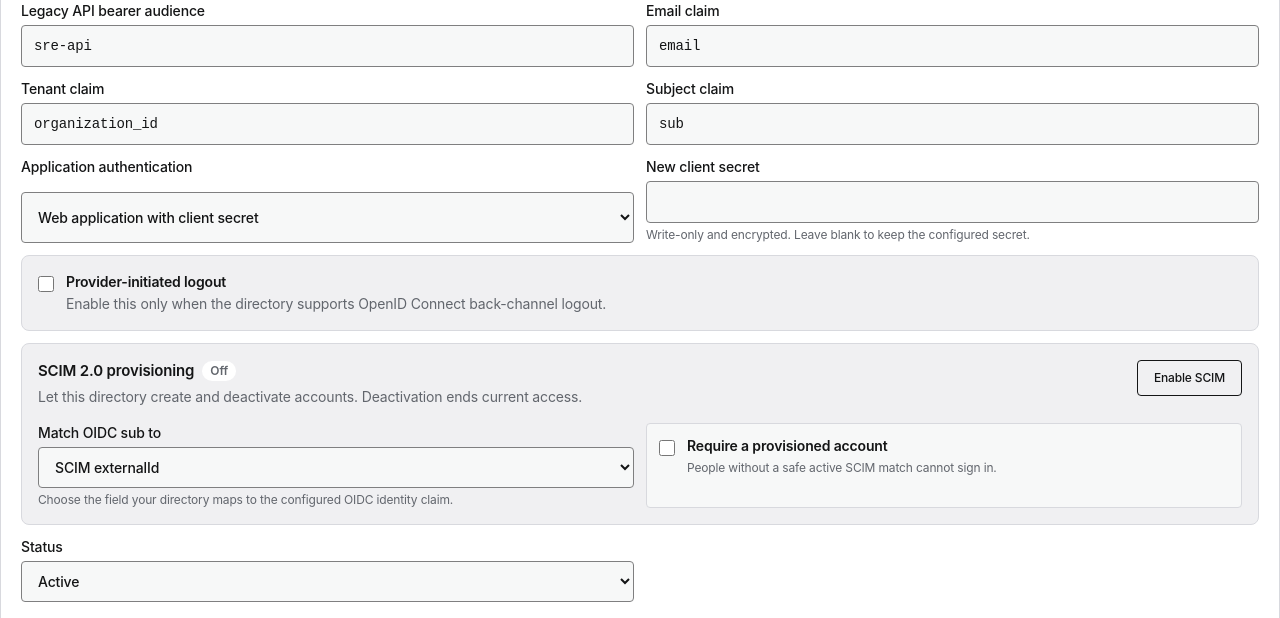
Test case: keeps a newly issued SCIM token visible while provider data refreshes
The width and height of the screenshot is (1280, 618).
(page scrolled)
Click the button "Enable SCIM" at (1189,378), box [1137,360,1242,396]
(page scrolled)
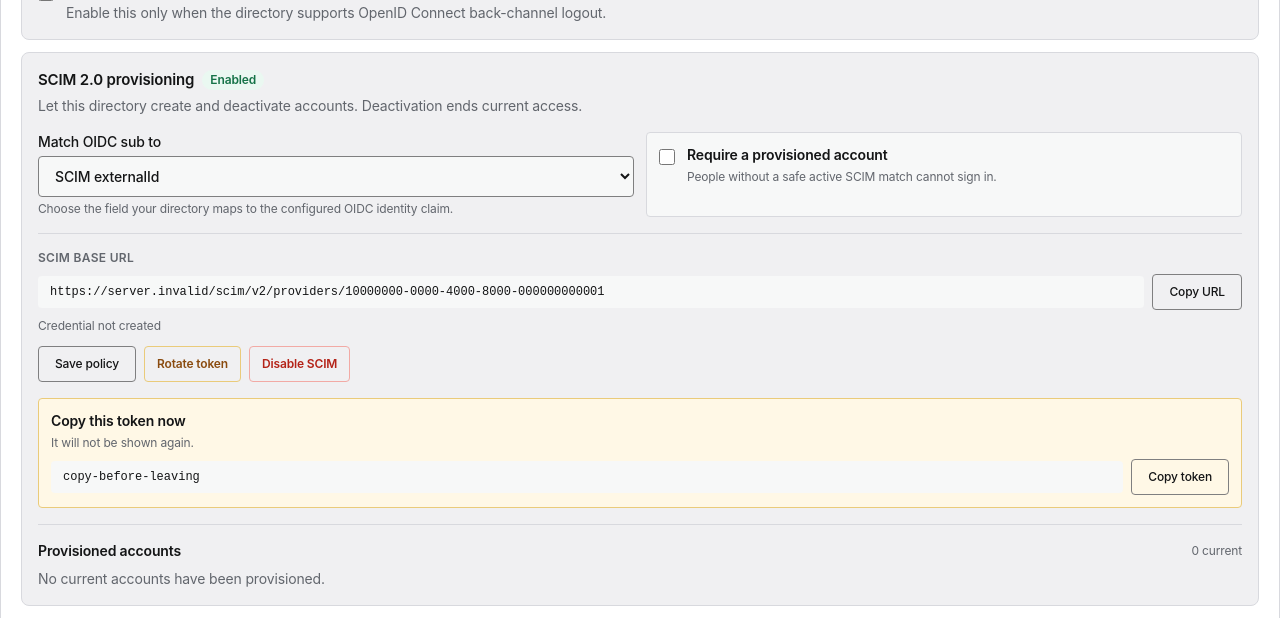
Expected: the text "copy-before-leaving" is shown, [51,460,1123,492]
Expected: the text "It will not be shown again." is shown, [51,434,194,450]
